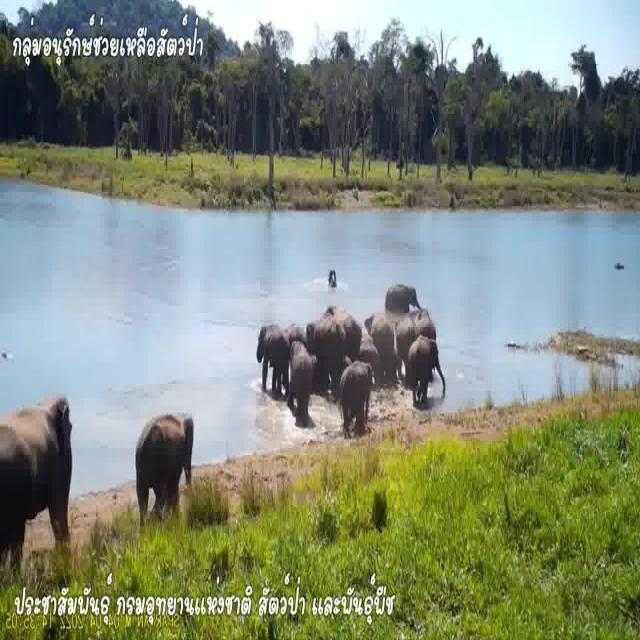Elephant: (1, 393, 79, 530), (134, 402, 194, 486), (252, 318, 288, 382), (415, 334, 445, 398), (338, 354, 367, 412), (368, 306, 393, 357), (292, 338, 314, 394), (387, 280, 420, 313)
